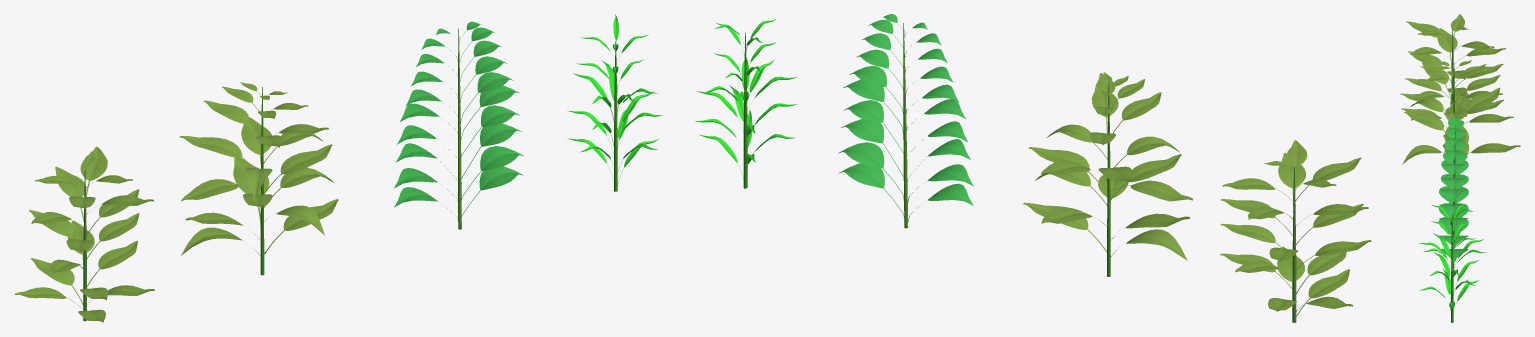
Rendered from TYPES_OF_LEAVES_1.gltf.
The picture shows the model from 3 angles, left to right: view 1: azimuth 30°, elevation 25°; view 2: azimuth 150°, elevation 25°; view 3: azimuth 270°, elevation 25°; orthographic projection. The views are drawn at different scales.
Visible parts, largest first — view 1: FEUILLE.022, FEUILLE.032, FEUILLE.005, FEUILLE.023, FEUILLE.004, FEUILLE.031, FEUILLE.002, tIGE.002, FEUILLE.028, FEUILLE.074, FEUILLE.078, FEUILLE.029 (+13 smaller); view 2: FEUILLE.005, FEUILLE.004, FEUILLE.023, FEUILLE.027, FEUILLE.035, FEUILLE.002, tIGE.002, FEUILLE.042, FEUILLE.006, FEUILLE.022, FEUILLE.026, FEUILLE.084 (+16 smaller); view 3: FEUILLE.032, FEUILLE.035, FEUILLE.029, FEUILLE.041, FEUILLE.031, FEUILLE.036, FEUILLE.079, FEUILLE.033, FEUILLE.039, FEUILLE.038, FEUILLE.086, FEUILLE.020 (+43 smaller).
Part boxes in pixels (x1,y1,x2,y2): FEUILLE.022: (264,144,332,194); FEUILLE.032: (179,136,253,167); FEUILLE.005: (461,146,523,199); FEUILLE.023: (181,179,260,201); FEUILLE.004: (461,166,523,216); FEUILLE.031: (241,117,271,164); FEUILLE.002: (461,123,521,178); tIGE.002: (458,28,461,229); FEUILLE.028: (264,199,338,254); FEUILLE.074: (87,241,138,286); FEUILLE.078: (87,213,139,258); FEUILLE.029: (233,157,269,226); FEUILLE.005: (838,142,903,199); FEUILLE.004: (838,163,906,228); FEUILLE.023: (1110,180,1192,201); FEUILLE.027: (1110,229,1187,260); FEUILLE.035: (1108,154,1181,203); FEUILLE.002: (841,119,906,183); tIGE.002: (903,23,908,228); FEUILLE.042: (1296,269,1349,316); FEUILLE.006: (843,100,903,153); FEUILLE.022: (1028,147,1107,194); FEUILLE.026: (1110,213,1190,240); FEUILLE.084: (1278,153,1305,211); FEUILLE.032: (1460,87,1500,119); FEUILLE.035: (1404,112,1446,133); FEUILLE.029: (1467,143,1520,153); FEUILLE.041: (1437,28,1457,68); FEUILLE.031: (1465,114,1513,123); FEUILLE.036: (1402,145,1442,164); FEUILLE.079: (1408,51,1451,82); FEUILLE.033: (1455,75,1500,102); FEUILLE.039: (1405,78,1453,102); FEUILLE.038: (1410,98,1444,113); FEUILLE.086: (1406,21,1451,52); FEUILLE.020: (1439,186,1468,204).
Bounding box in the file's own units: 45.51 × 13.69 × 10.34.
